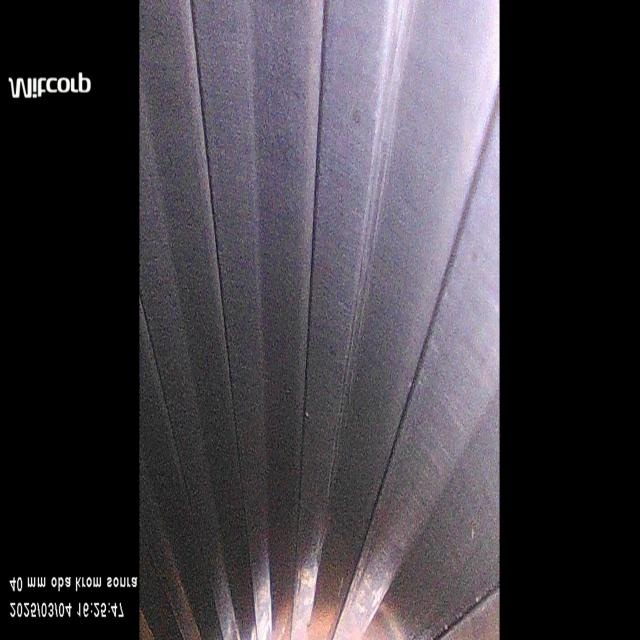hata_2.3: (316, 160, 427, 638)
